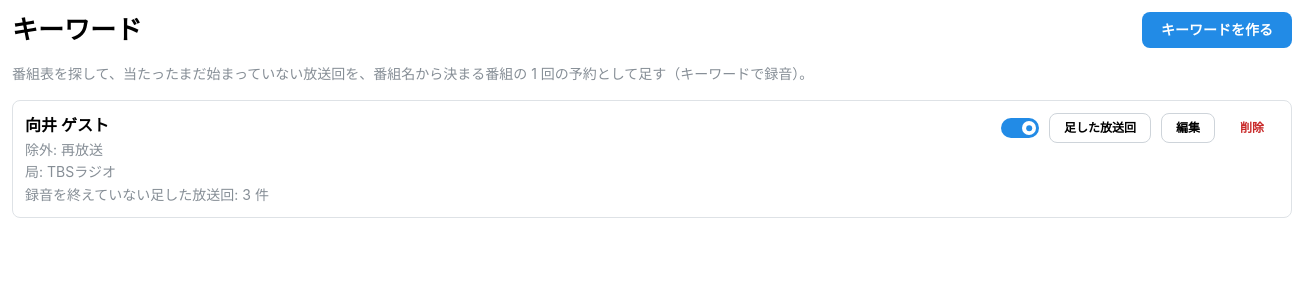
Test: KeywordsPage › 有効／無効を変えられなかったら、エラーを出し、スイッチは元のまま
Click the switch named "向井 ゲスト を有効にする". click: (1020, 128)
box: x1=1001 y1=118 x2=1039 y2=138
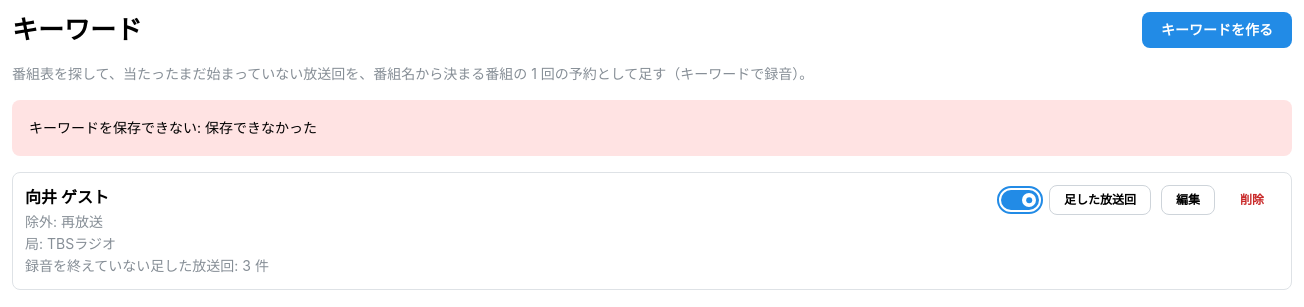
Check: the switch named "向井 ゲスト を有効にする" is checked, box x1=1001 y1=190 x2=1039 y2=210
Check: the message shows "保存できなかった", box x1=29 y1=119 x2=317 y2=136
